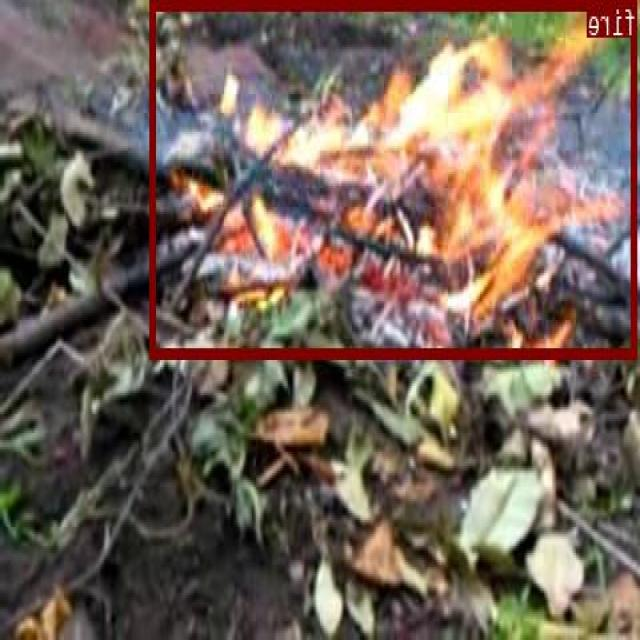fire: (151, 0, 638, 358)
